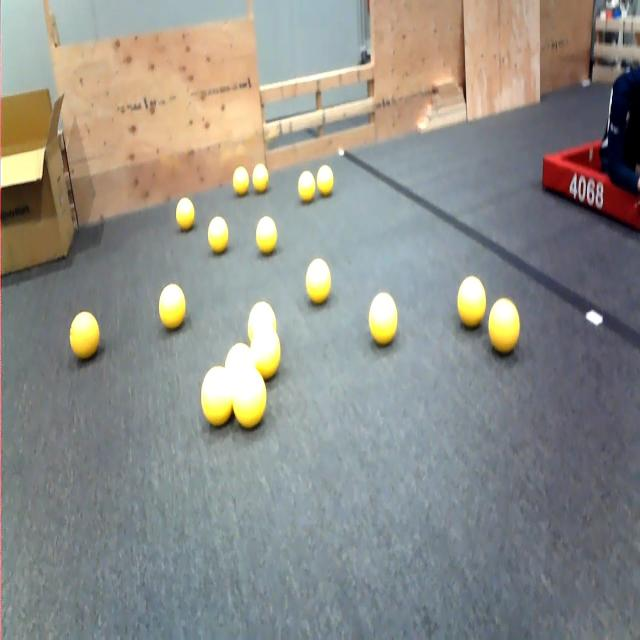fuel: (233, 367, 266, 429), (201, 366, 232, 426), (488, 298, 519, 354), (250, 326, 280, 380), (457, 276, 486, 327), (369, 293, 397, 345), (70, 312, 99, 359), (159, 284, 185, 329), (248, 301, 276, 342), (306, 258, 331, 303), (225, 343, 254, 373), (256, 216, 277, 255), (208, 216, 228, 253), (176, 198, 194, 231), (298, 170, 315, 202), (317, 165, 333, 196), (252, 163, 268, 192), (233, 167, 249, 196)
